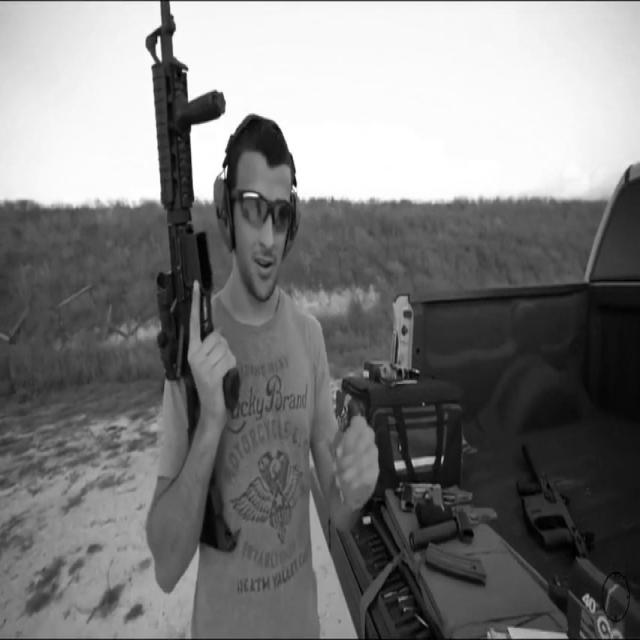Sniper: (72, 0, 329, 575)
